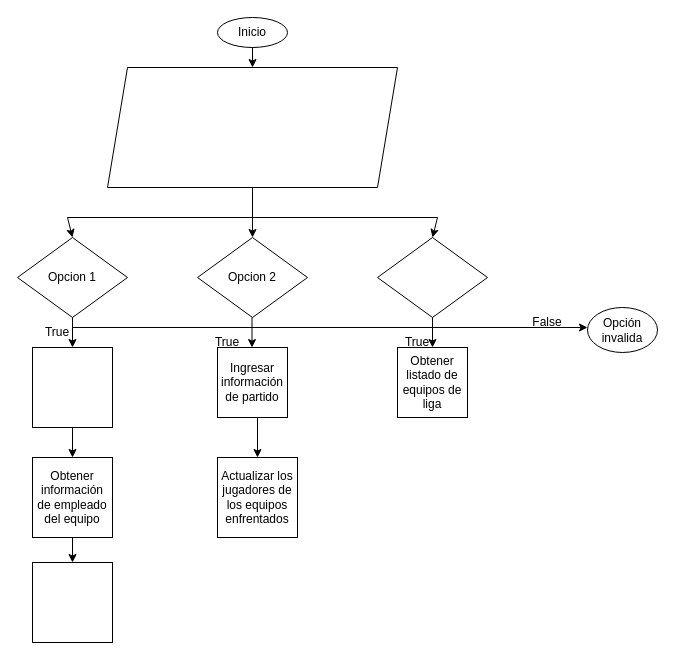
Some shapes in this 675 by 660 pixel diagram are drawn without their labels. Here are the shapes that lost their labels. From the top down, the box of each, then its label:
(106, 66, 398, 188): Menu: 1. Inscribir equipo 2. Crear partido 3. Estadisticas liga
(376, 236, 488, 318): Opcion 3
(32, 346, 112, 428): Obtener información de los 12 jugadores
(32, 562, 112, 642): Obtener información del equipo
